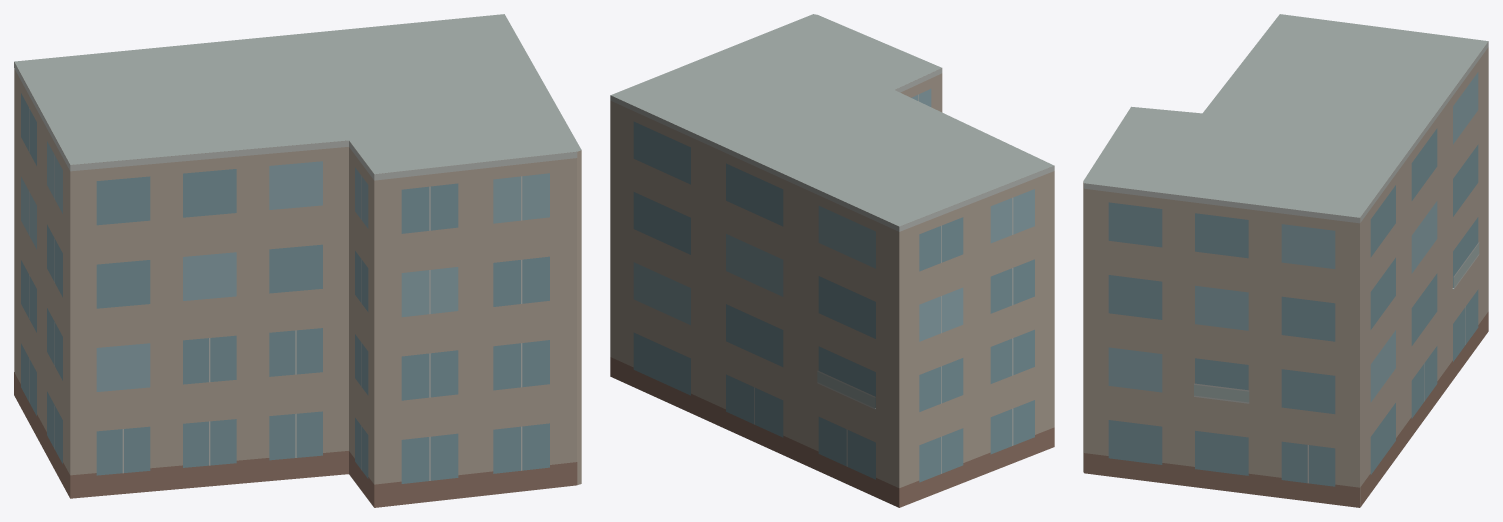
File: survey-upis-32817019.glb
The picture shows the model from 3 angles, left to right: view 1: azimuth 30°, elevation 25°; view 2: azimuth 150°, elevation 25°; view 3: azimuth 270°, elevation 25°; orthographic projection. The views are drawn at different scales.
Parts seen in each view (by area): view 1: survey-upis-32817019.tmp; view 2: survey-upis-32817019.tmp; view 3: survey-upis-32817019.tmp.
Part boxes in pixels (bbox=[...]): survey-upis-32817019.tmp: bbox=[14, 14, 581, 507]; survey-upis-32817019.tmp: bbox=[610, 14, 1054, 507]; survey-upis-32817019.tmp: bbox=[1083, 14, 1488, 507].
Size of the model in its own units: 19.38 by 12.85 by 16.29.
